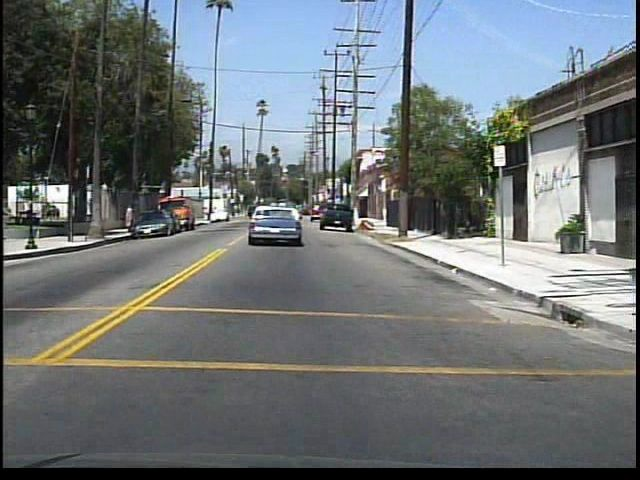person: (87, 197, 101, 223), (42, 198, 57, 222), (125, 201, 135, 230)
